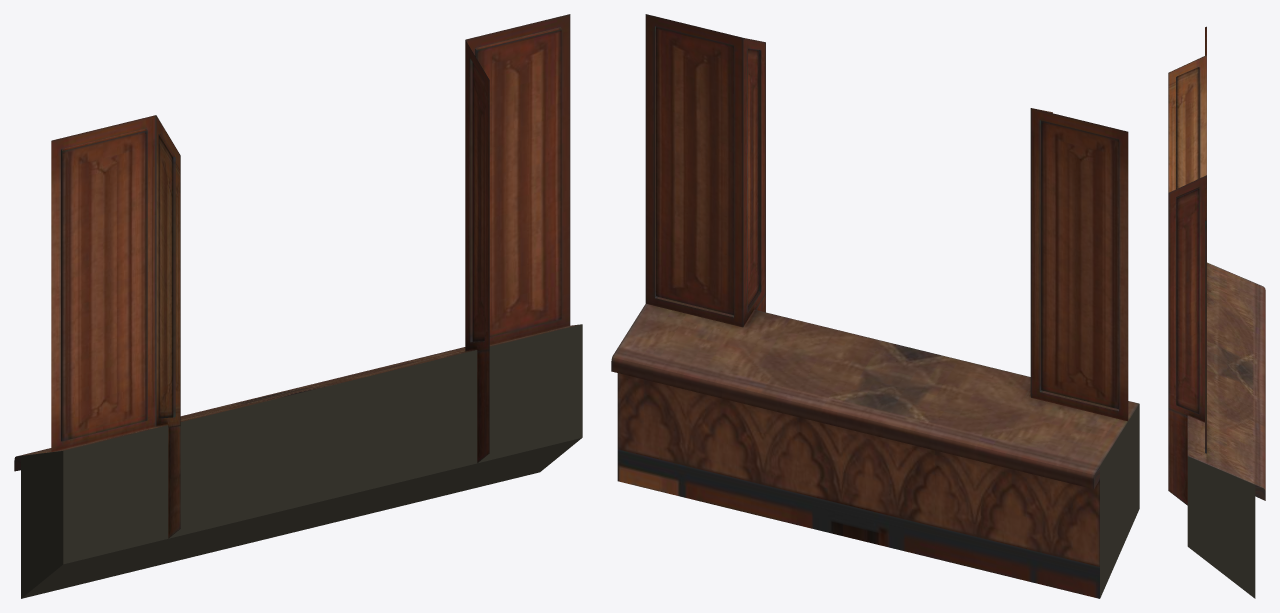
File: desk.fbx
3 views of the same model, side by side, from view 1: azimuth 30°, elevation 25°; view 2: azimuth 150°, elevation 25°; view 3: azimuth 270°, elevation 25° (orthographic). The views are drawn at different scales.
Visible parts, largest first — view 1: pCube14, pCube16, polySurface12; view 2: pCube14, polySurface12, pCube16; view 3: pCube14, polySurface12, pCube16.
Part boxes in pixels (x1,y1,x2,y2): pCube14: [14, 324, 582, 598]; pCube16: [51, 115, 180, 538]; polySurface12: [465, 14, 570, 462]; pCube14: [611, 304, 1139, 598]; polySurface12: [645, 14, 765, 327]; pCube16: [1030, 108, 1128, 421]; pCube14: [1187, 262, 1265, 598]; polySurface12: [1168, 175, 1206, 505]; pCube16: [1168, 26, 1206, 192].
Size of the model in its own units: 495 by 437 by 101.
